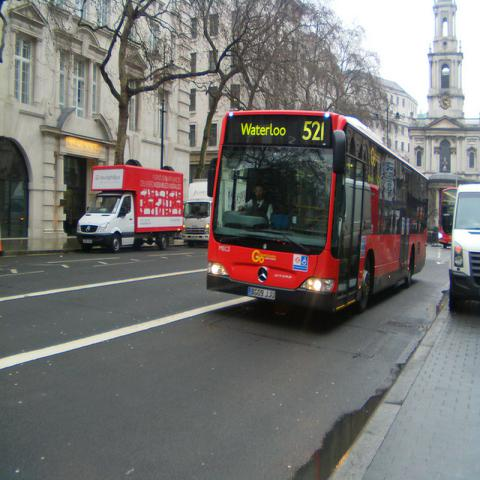bus: (210, 103, 432, 308), (438, 188, 458, 250)
truck: (78, 164, 182, 256), (448, 178, 479, 319), (182, 178, 214, 248)
